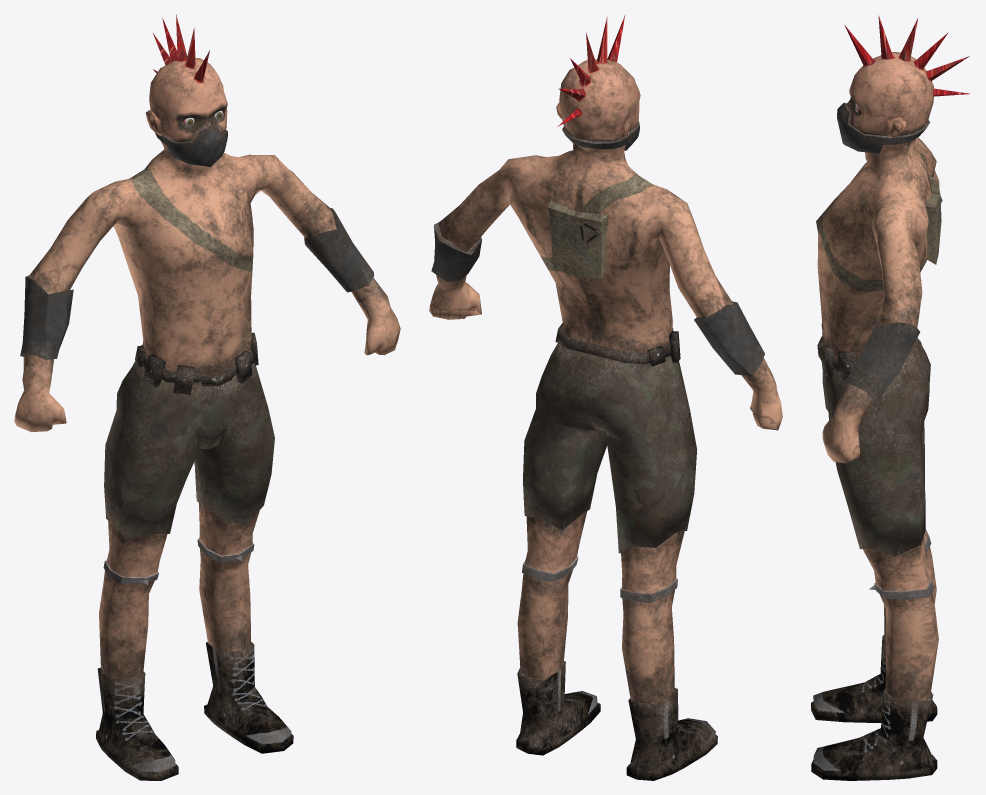
File: Anim_idle_npc2.0024.obj
3 views of the same model, side by side, from view 1: azimuth 30°, elevation 25°; view 2: azimuth 150°, elevation 25°; view 3: azimuth 270°, elevation 25° (orthographic). The views are drawn at different scales.
Parts seen in each view (by area): view 1: polySurface1; view 2: polySurface1; view 3: polySurface1.
Boxes of the visible parts, box(x1,y1,x2,y2) form: polySurface1: box(14, 14, 400, 780); polySurface1: box(429, 15, 782, 780); polySurface1: box(811, 14, 970, 780).
Size of the model in its own units: 5.43 by 10.2 by 2.03.
2 materials, 2 textured.
